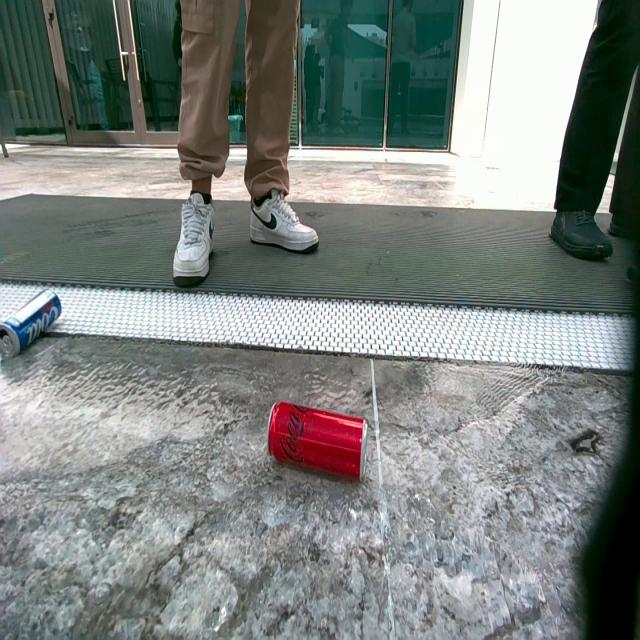Cans: (265, 402, 366, 487), (0, 285, 60, 359)
